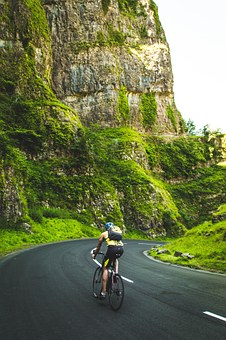bikerider: (87, 216, 132, 313)
